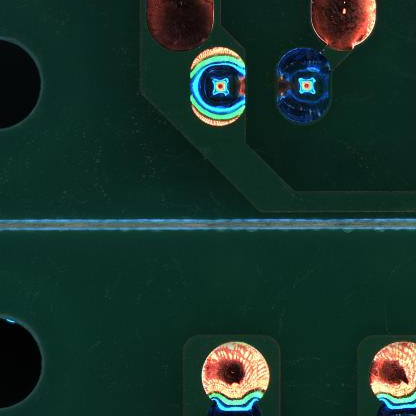spot: (187, 45, 247, 129), (274, 47, 334, 127)
